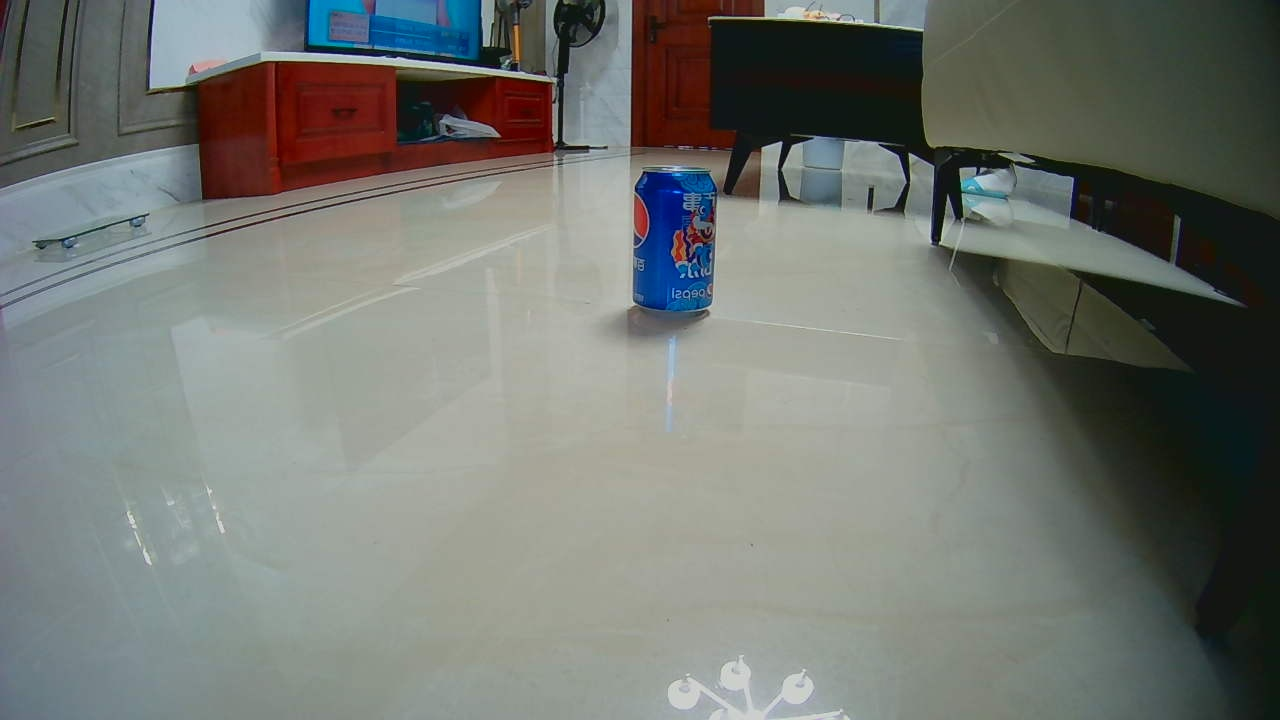pessi: (629, 172, 718, 310)
